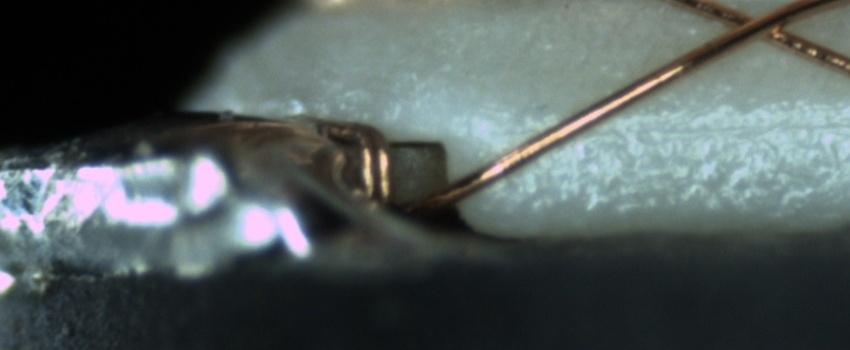CL: (708, 2, 817, 48)
DL: (570, 98, 849, 162)
TE: (289, 112, 397, 205)
